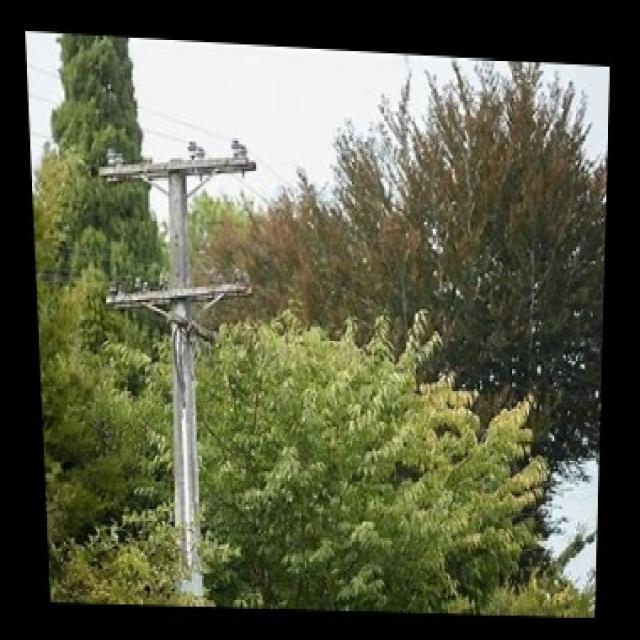utility poles: (98, 143, 280, 603)
